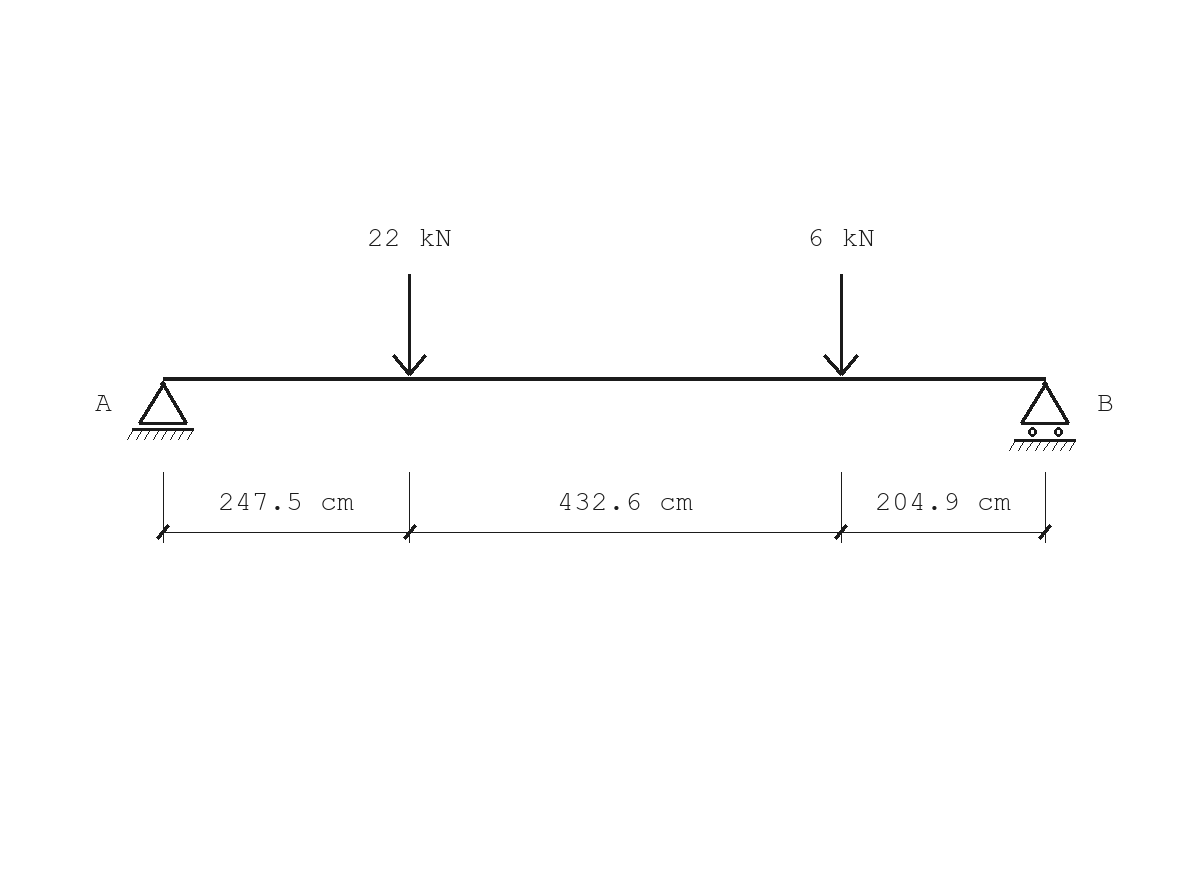pin_support: (127, 381, 194, 440)
point_load: (823, 274, 859, 376), (392, 274, 427, 376)
roller_support: (1009, 381, 1076, 451)
